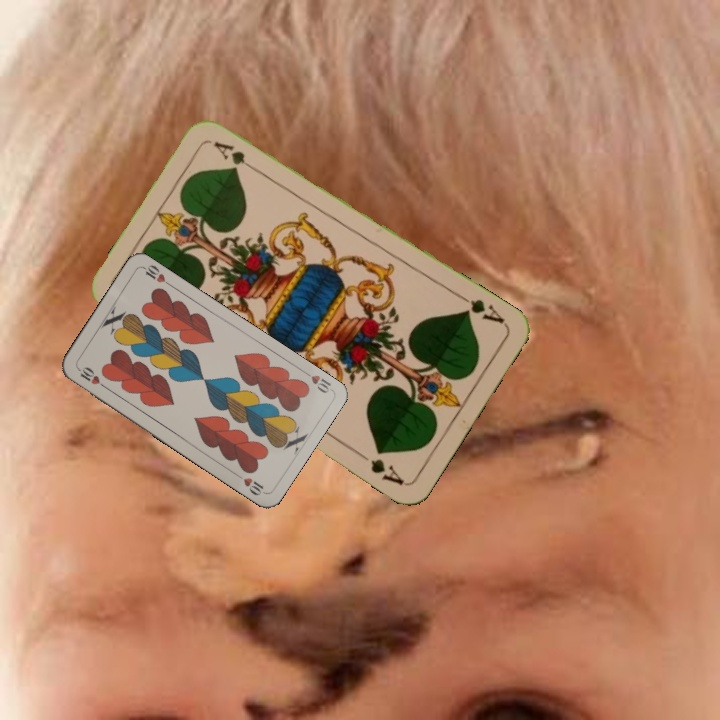GA: (454, 290, 508, 327)
H10: (298, 366, 334, 396), (74, 363, 110, 391)
